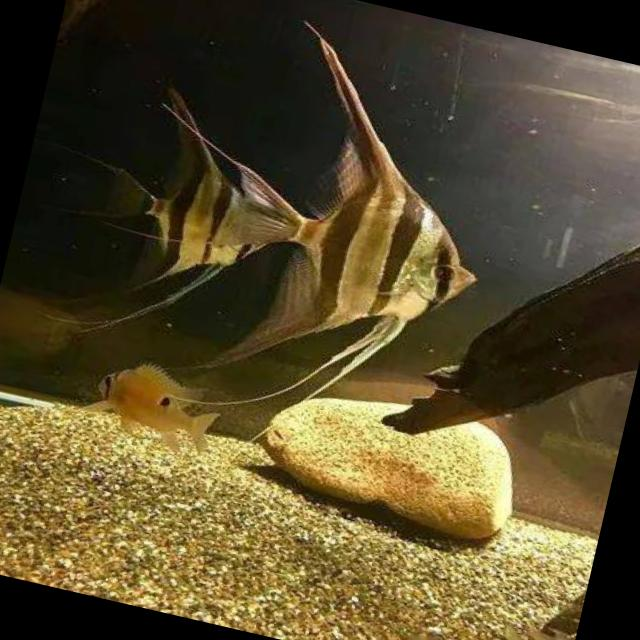AngelFish: (202, 17, 524, 455), (90, 84, 294, 348)
